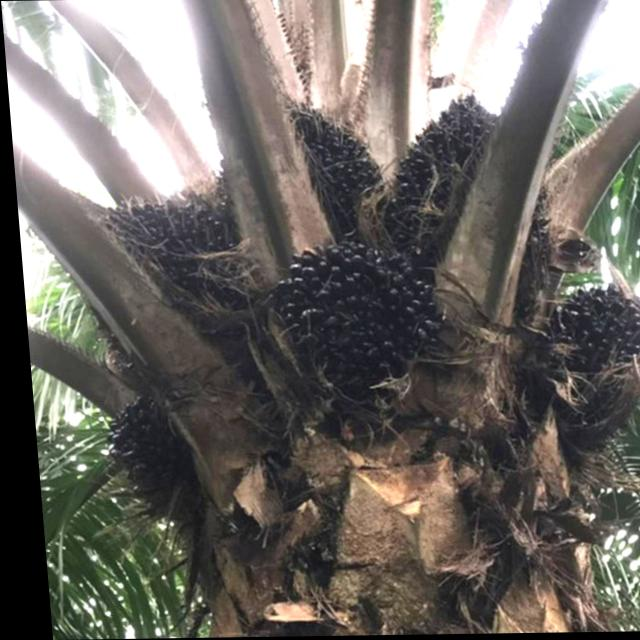almost: (258, 233, 444, 407)
